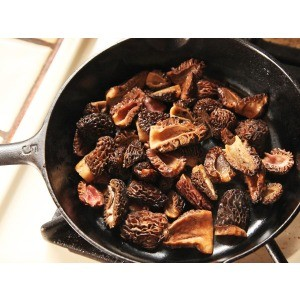mushroom_brain food: (124, 106, 230, 204)
